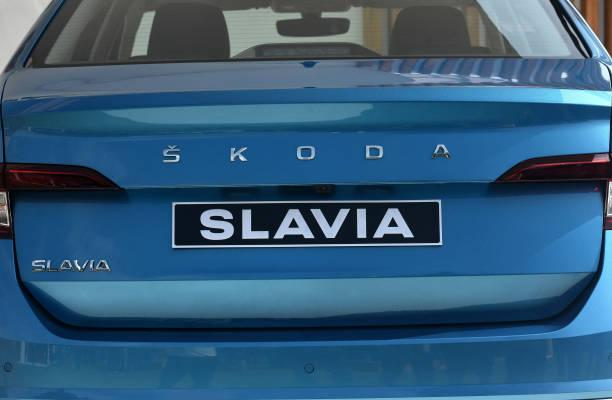skoda: (148, 128, 459, 181)
